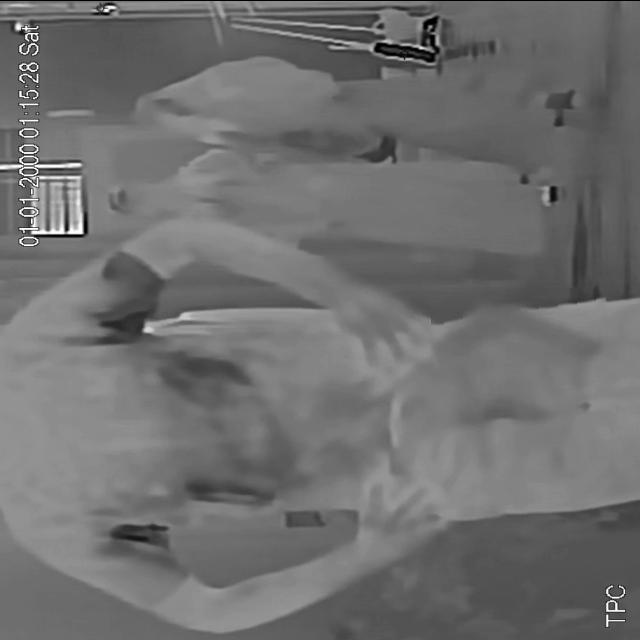Weapon: (431, 287, 609, 375)
